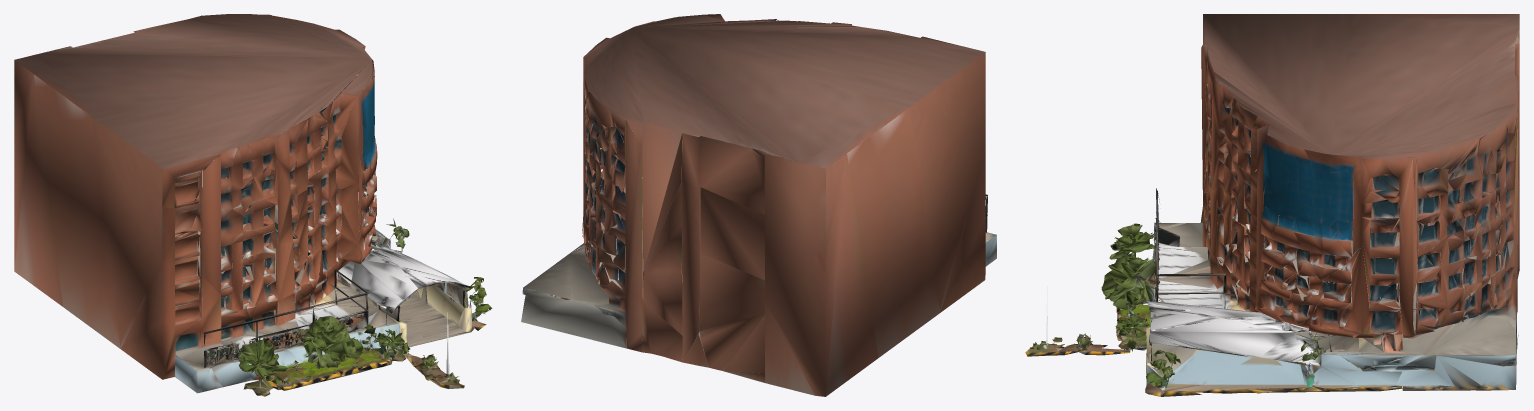
The model's file is World6402de282c.glb.
3 renders of one model, left to right at view 1: azimuth 30°, elevation 25°; view 2: azimuth 150°, elevation 25°; view 3: azimuth 270°, elevation 25°, orthographic. The views are drawn at different scales.
Visible parts, largest first — view 1: World6402de282c; view 2: World6402de282c; view 3: World6402de282c.
Part boxes in pixels (box(x1,y1,x2,y2)): World6402de282c: box(14, 14, 492, 396); World6402de282c: box(521, 14, 996, 396); World6402de282c: box(1025, 14, 1519, 396).
Size of the model in its own units: 5.41 by 3.58 by 7.
Materials: 1 (1 with a texture image).
